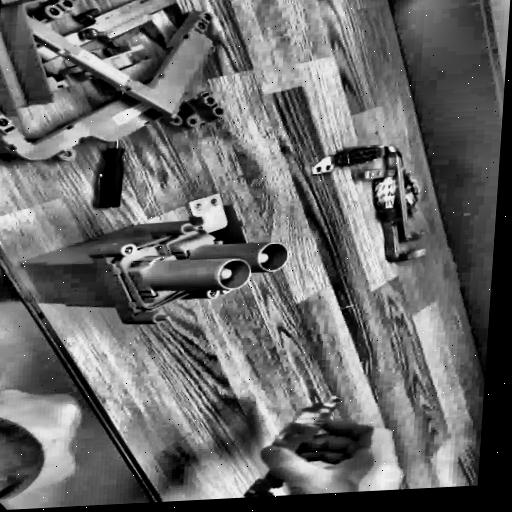busbar: (305, 137, 446, 271)
connector: (10, 189, 292, 333)
